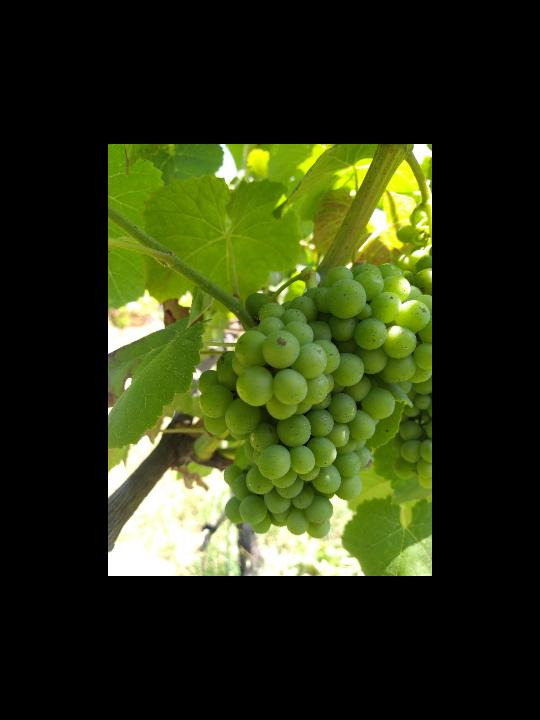grape: (196, 262, 430, 540)
